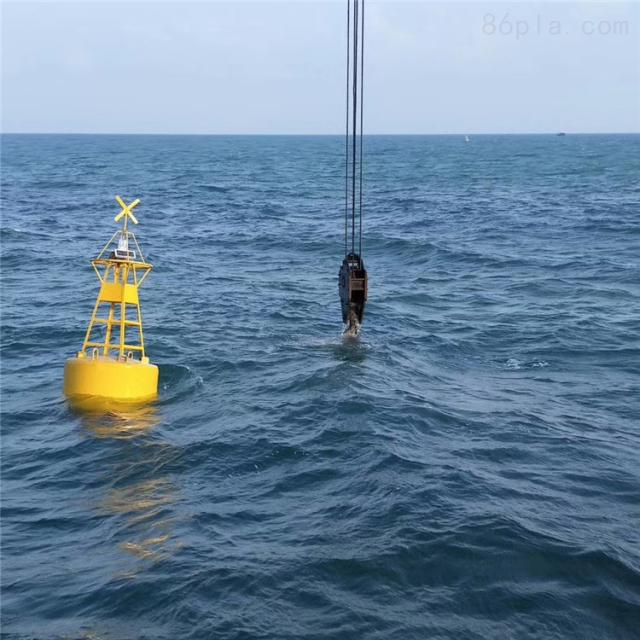buoy: (61, 193, 165, 408)
